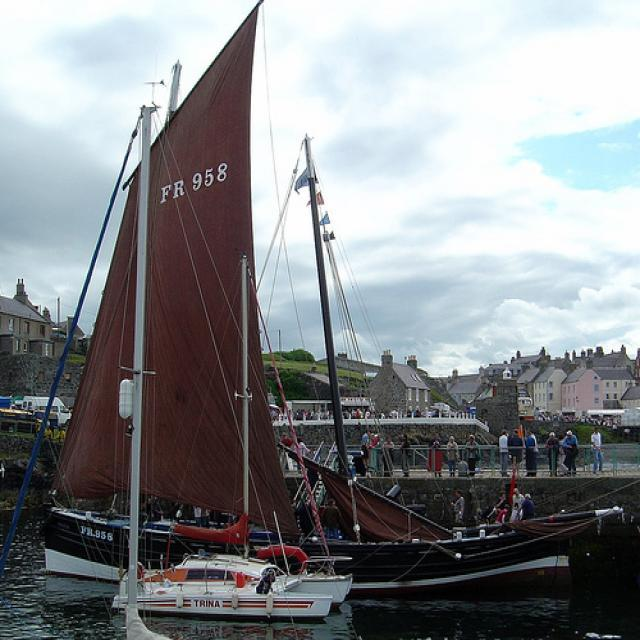Ship: (31, 1, 615, 634)
